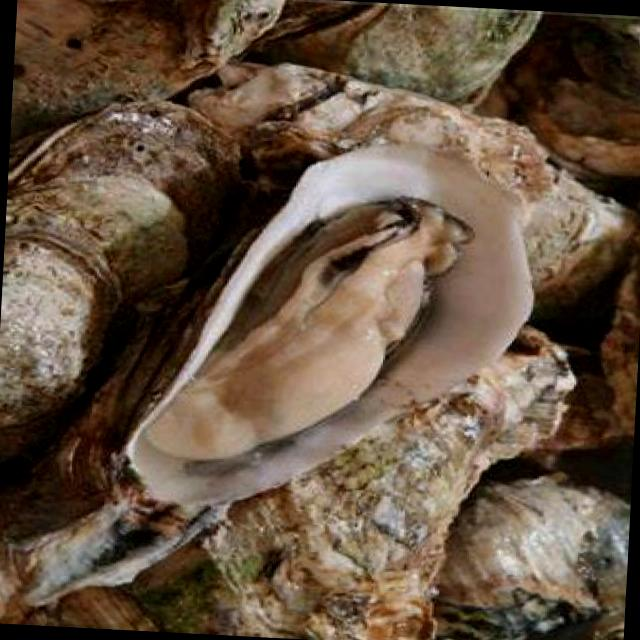Oyster-Closed: (202, 326, 574, 640), (190, 62, 640, 308), (7, 100, 243, 254), (11, 0, 278, 124), (440, 479, 631, 640), (0, 228, 124, 430), (1, 169, 190, 299)
Oyster-Open: (126, 145, 534, 502)
